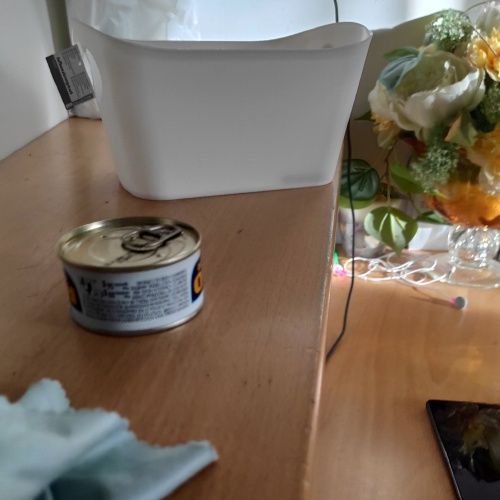tonno: (49, 209, 213, 337)
